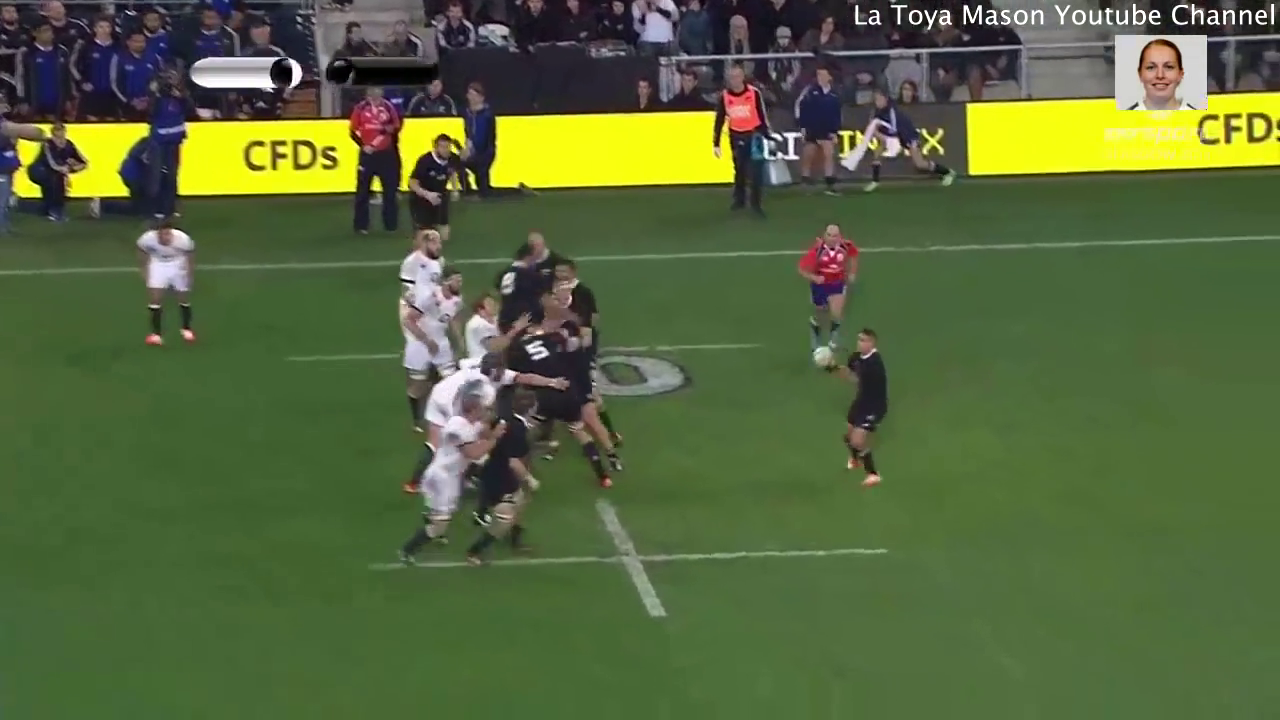10_metre: (362, 486, 897, 627), (272, 313, 778, 404)
player: (390, 392, 504, 568), (505, 319, 616, 488), (397, 340, 513, 501), (800, 320, 901, 499), (462, 383, 551, 571), (122, 211, 206, 354), (401, 264, 469, 424), (795, 217, 864, 368), (400, 124, 468, 257), (458, 293, 525, 374), (489, 241, 544, 330), (540, 254, 602, 330), (392, 222, 459, 285)
